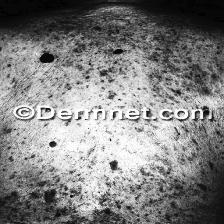Non-Cancerous Skin Condition: (76, 188, 172, 224), (43, 188, 58, 202), (108, 160, 122, 173), (40, 53, 54, 64), (48, 140, 59, 150), (113, 48, 124, 54)
